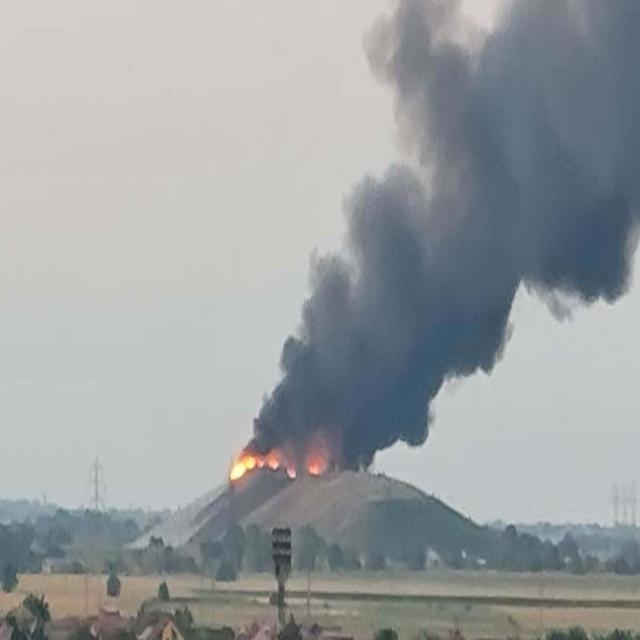Fire: (234, 450, 288, 480)
Smoke: (256, 3, 640, 436)
